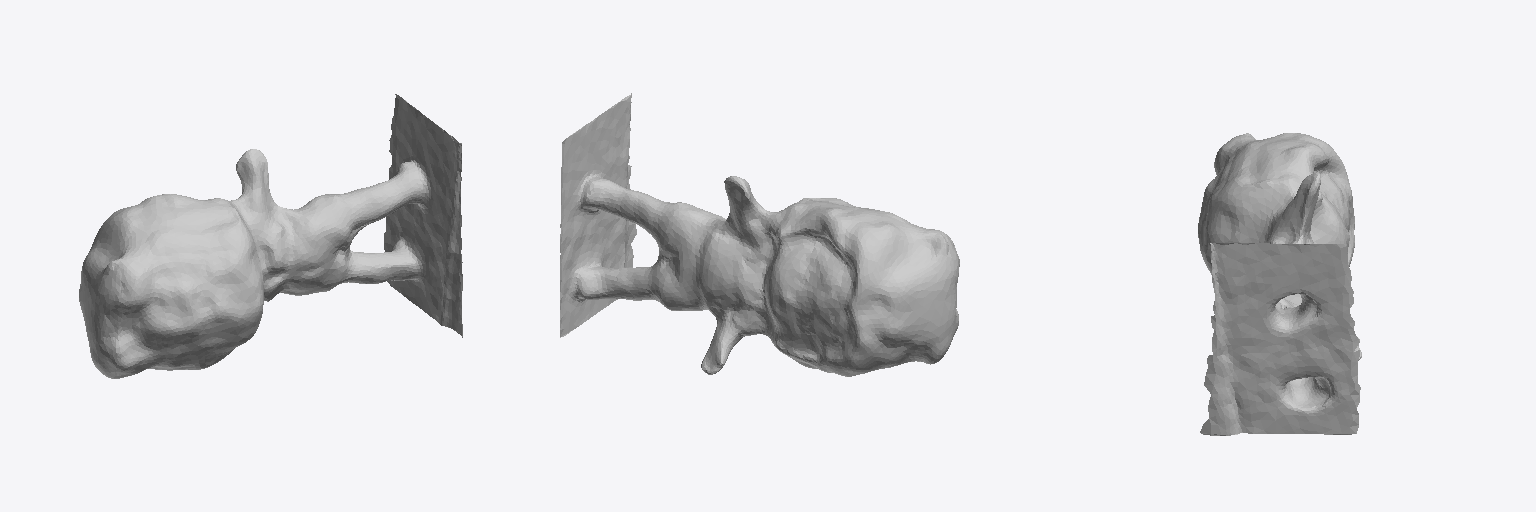
File: 27 Apr 2023.obj
3 views of the same model, side by side, from view 1: azimuth 30°, elevation 25°; view 2: azimuth 150°, elevation 25°; view 3: azimuth 270°, elevation 25° (orthographic).
Size of the model in its own units: 0.5544 by 0.2943 by 0.2281.